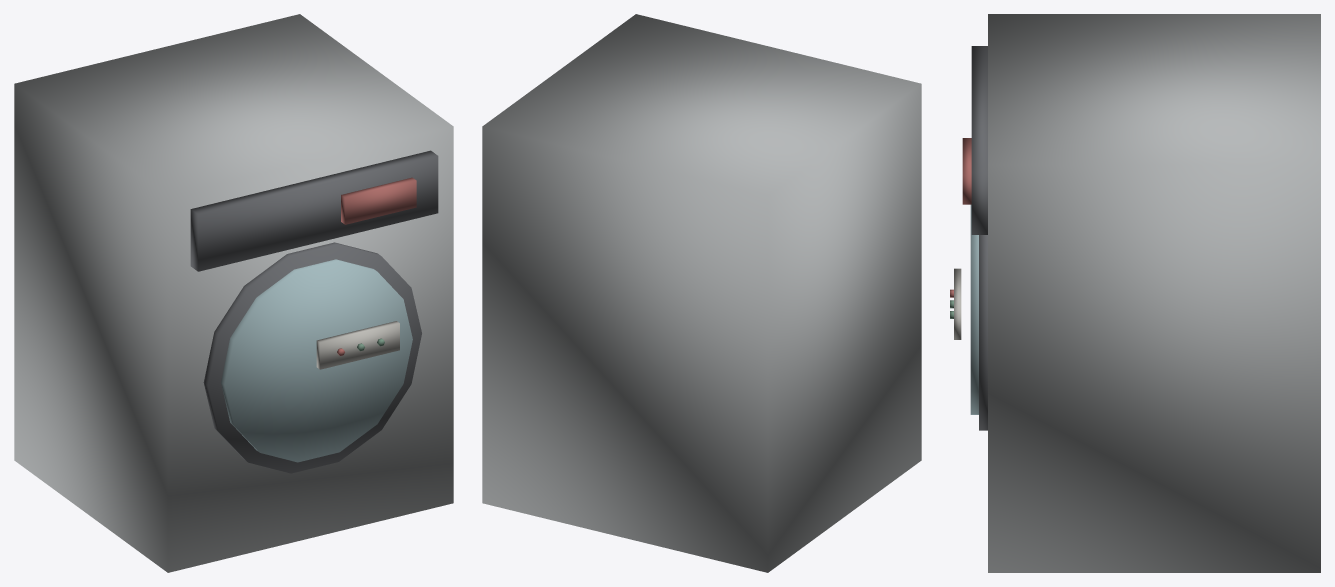
The model's file is industrial_dryer__reinforced.glb.
The picture shows the model from 3 angles, left to right: view 1: azimuth 30°, elevation 25°; view 2: azimuth 150°, elevation 25°; view 3: azimuth 270°, elevation 25°; orthographic projection. The views are drawn at different scales.
Visible parts, largest first — view 1: world; view 2: world; view 3: world.
Part boxes in pixels (x1,y1,x2,y2): world: [14, 14, 453, 572]; world: [482, 14, 921, 572]; world: [950, 14, 1320, 572].
Size of the model in its own units: 0.9064 by 1.14 by 0.9409.
